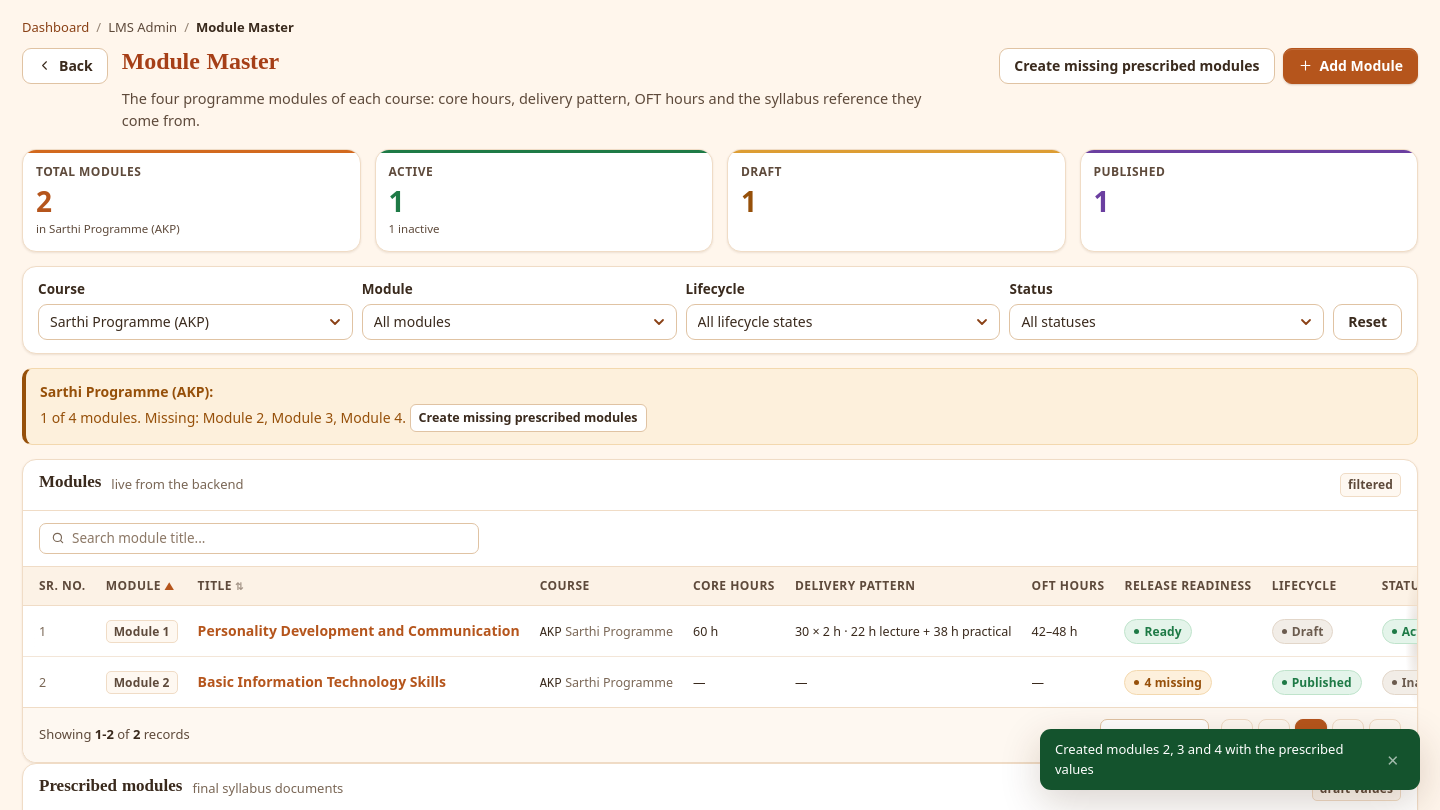
Test case: <CourseModuleList> › shows a server field error from the prescribed-modules request on the dialog field
Expected: the text "Personality Development and Communication" is shown, 198,621 -> 520,640
Click the 1st button "Create missing prescribed modules". click: x=1137, y=66
box: 999,48 -> 1274,84
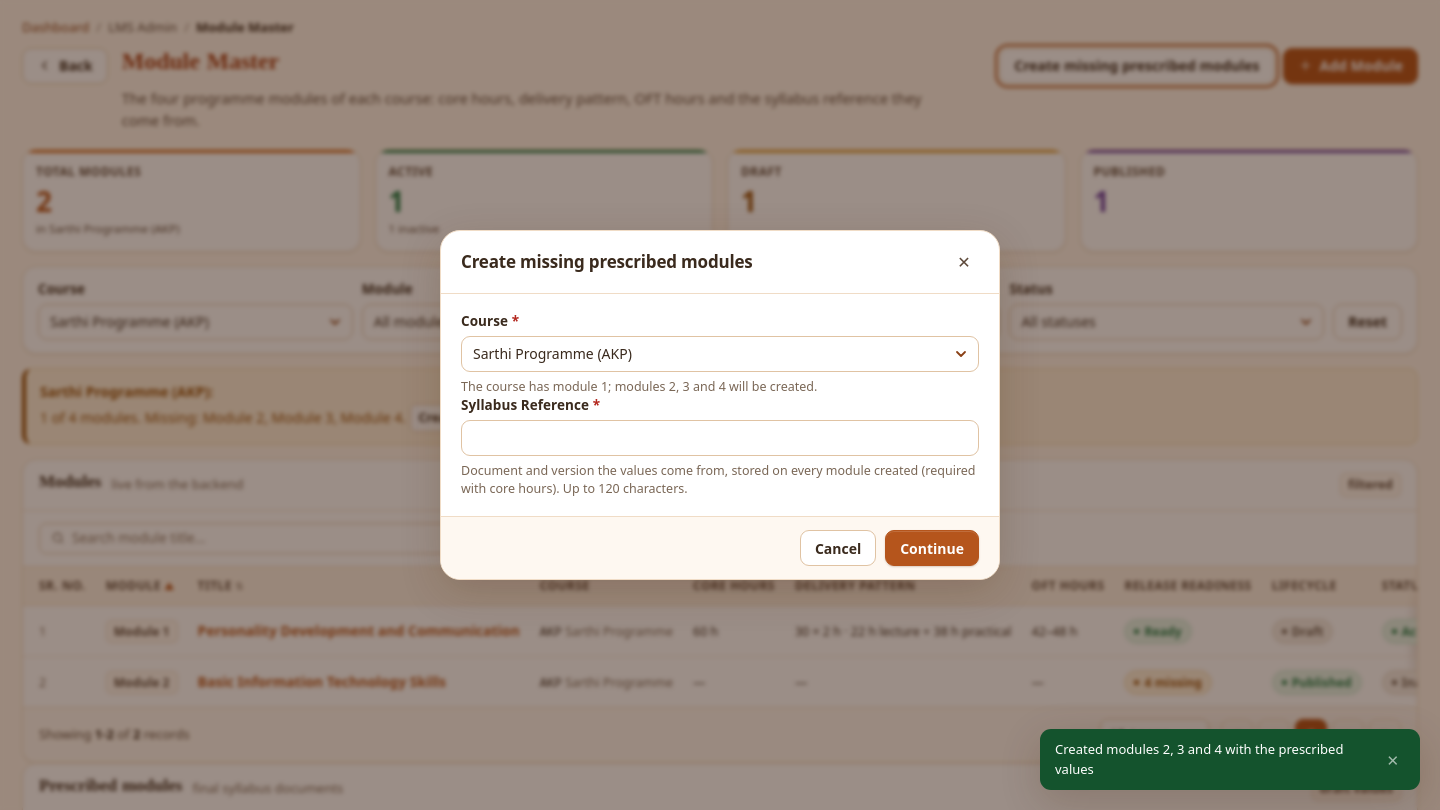
Type "Final syllabus v1" into the field labelled "Syllabus Reference *". click: x=720, y=438
box: 461,420 -> 979,456
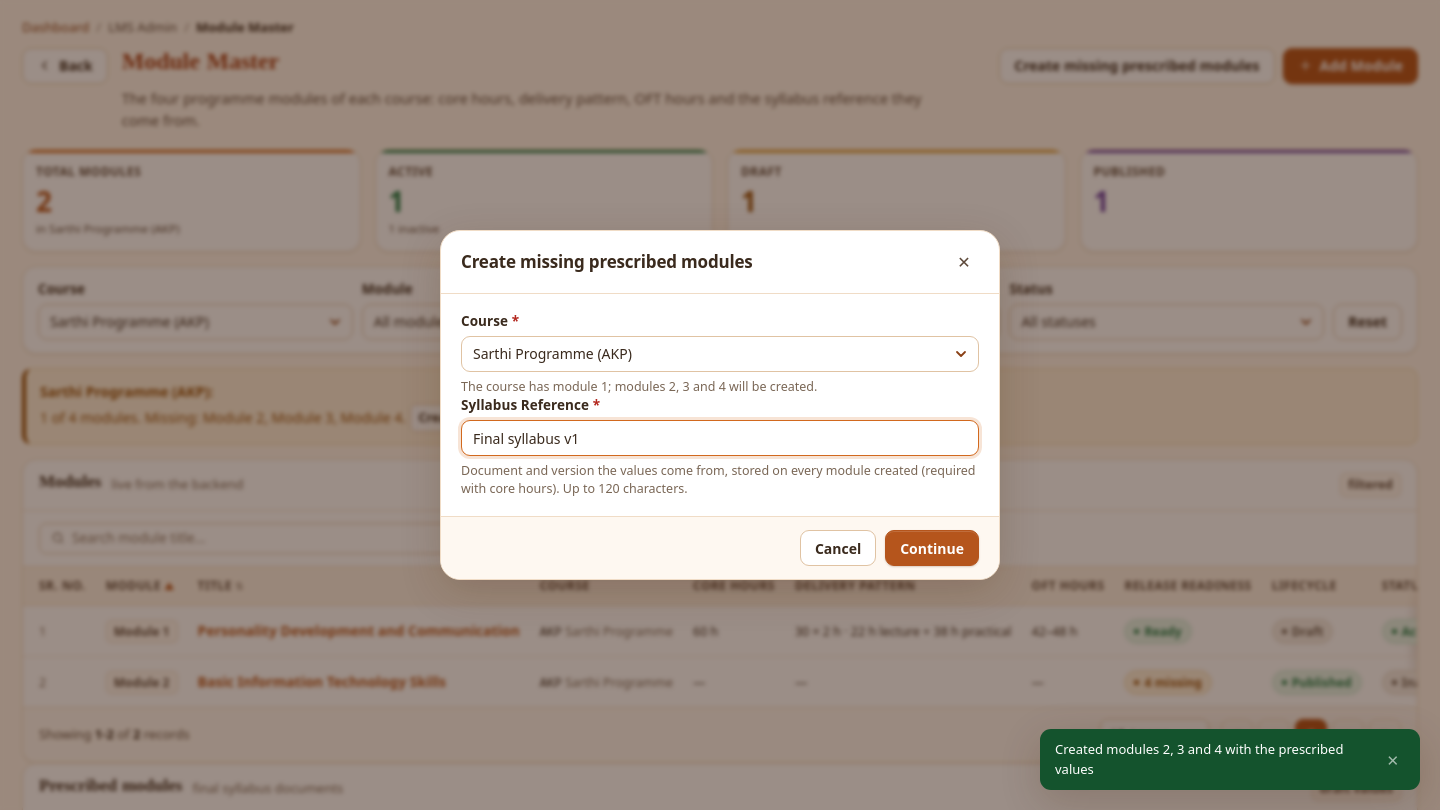
Click the button "Continue". click: x=932, y=548
box: 885,530 -> 979,566
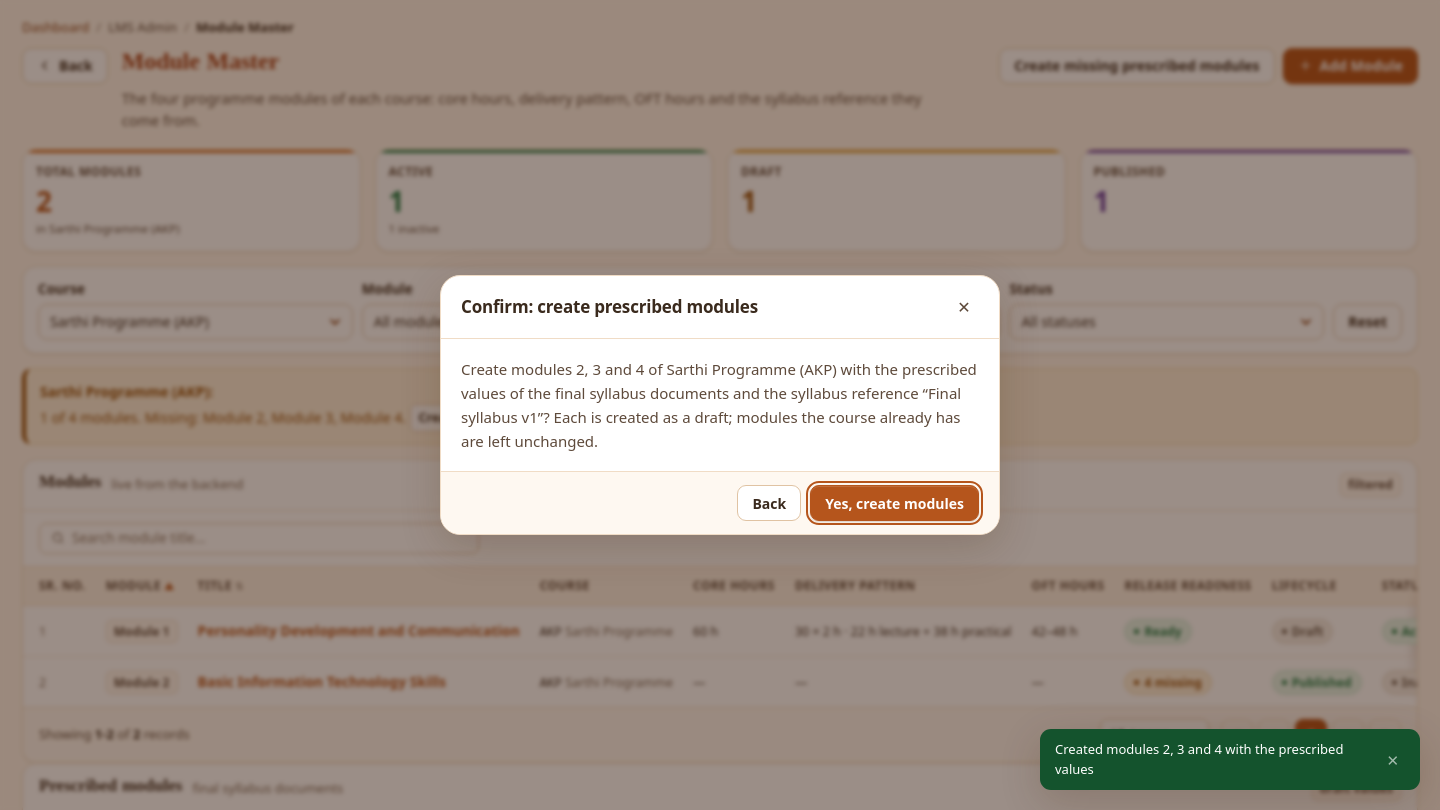
Click the button "Yes, create modules". click: x=895, y=503
box: 810,485 -> 979,521
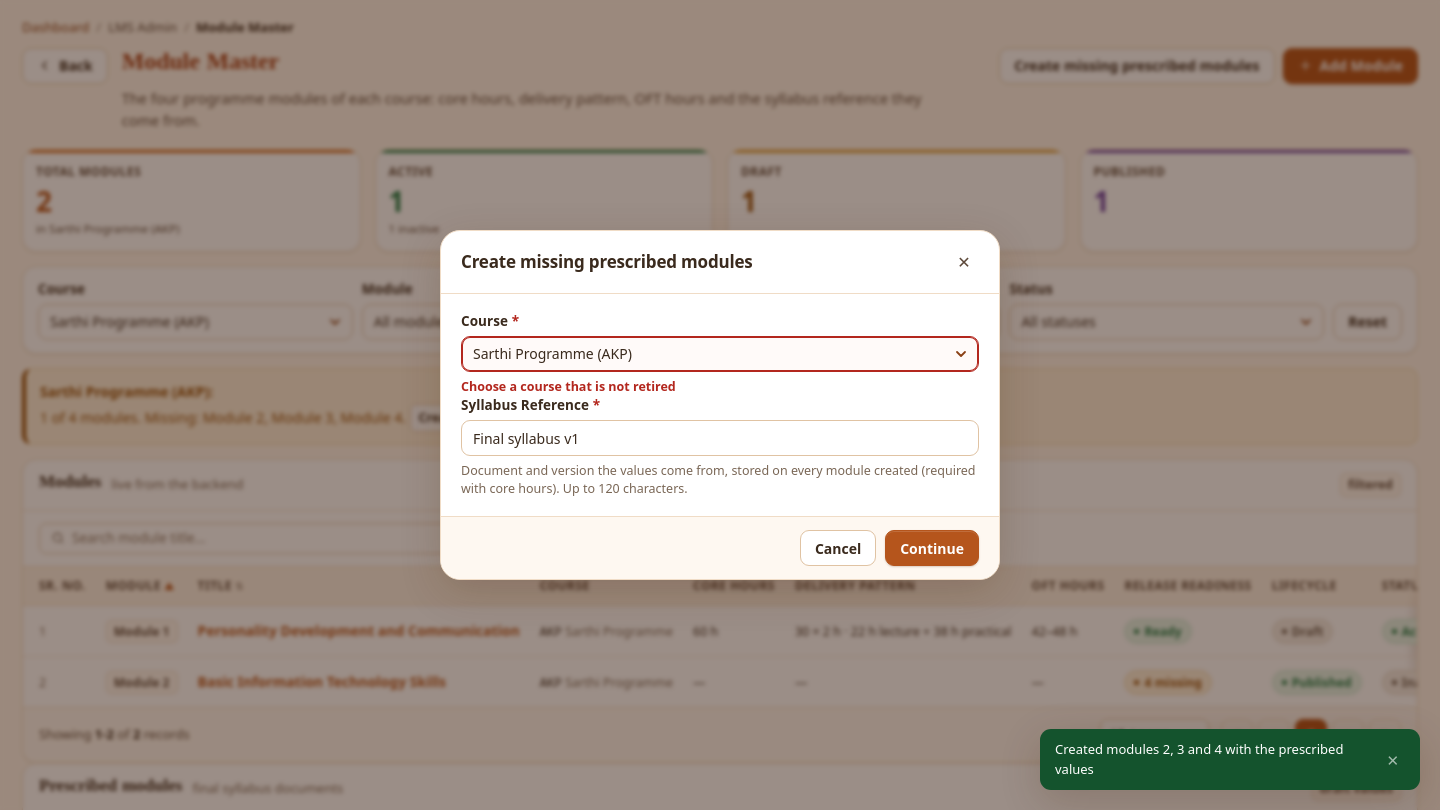
Expected: the text "Choose a course that is not retired" is shown, 461,378 -> 676,395
